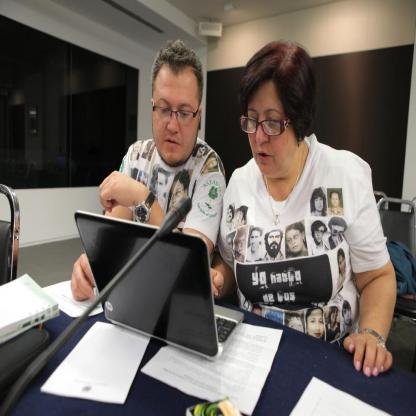board: (73, 217, 245, 361)
